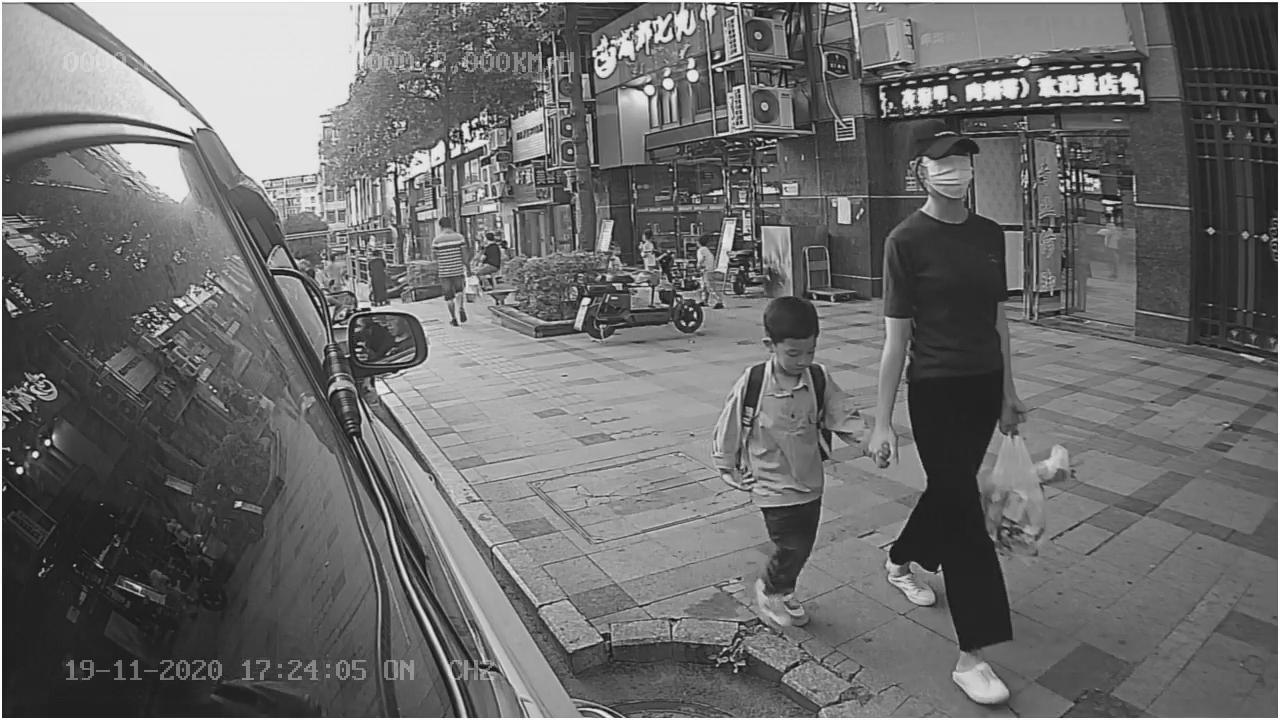person: (870, 121, 1039, 709), (704, 291, 870, 634), (428, 213, 475, 333)
